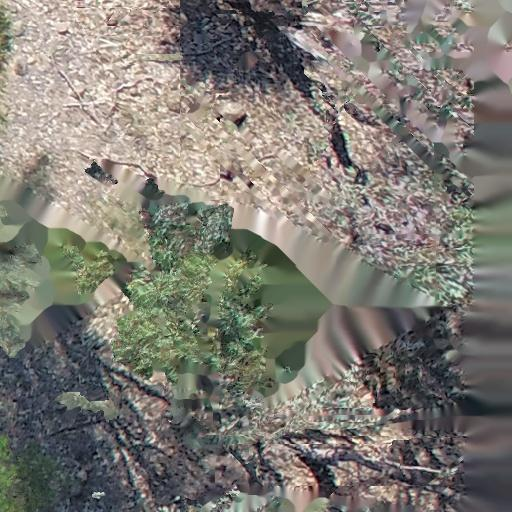stone: (165, 89, 197, 112), (216, 102, 249, 122), (11, 54, 33, 74), (69, 82, 87, 101), (55, 22, 71, 36)
